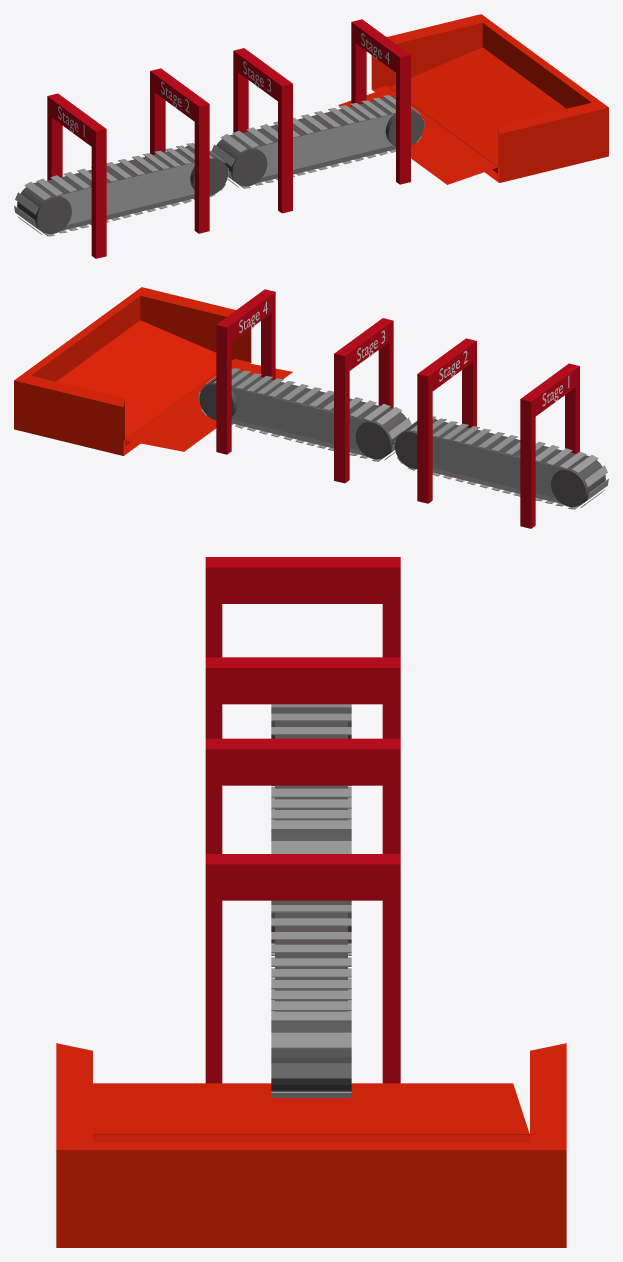
Rendered from project_revised.glb.
The picture shows the model from 3 angles, top to bottom: view 1: azimuth 30°, elevation 25°; view 2: azimuth 150°, elevation 25°; view 3: azimuth 270°, elevation 25°; orthographic projection. The views are drawn at different scales.
Parts seen in each view (by area): view 1: Cube.024, Cube.105, Cube.106, Cube.018, Cube.022, Cube.037, Cube.039, Circle, Circle.002, Cylinder, Cylinder.002, Cylinder.001 (+1 smaller); view 2: Cube.024, Cube.018, Cube.105, Cube.022, Cube.106, Cube.039, Cube.037, Circle, Circle.002, Cylinder, Cylinder.002, Cylinder.001 (+1 smaller); view 3: Cube.024, Cube.022, Cube.018, Cube.105, Cube.106, Cylinder.003, Circle.002, Circle, Cube.088, Cube.089, Cube.019.
Boxes of the visible parts, box(x1,y1,x2,y2) form: Cube.024: box(338, 14, 608, 184); Cube.105: box(47, 93, 106, 258); Cube.106: box(150, 68, 209, 233); Cube.018: box(233, 48, 292, 213); Cube.022: box(351, 19, 410, 184); Cube.037: box(60, 162, 194, 224); Cube.039: box(255, 114, 393, 176); Circle: box(17, 146, 194, 232); Circle.002: box(217, 98, 395, 183); Cylinder: box(20, 182, 71, 234); Cylinder.002: box(216, 134, 267, 186); Cylinder.001: box(186, 145, 227, 195); Cube.024: box(14, 287, 292, 455); Cube.018: box(334, 318, 393, 483); Cube.105: box(520, 363, 579, 528); Cube.022: box(216, 289, 275, 454); Cube.106: box(417, 338, 476, 503); Cube.039: box(231, 388, 367, 449); Cube.037: box(432, 437, 562, 497); Circle: box(416, 419, 605, 506); Circle.002: box(231, 371, 405, 456); Cylinder: box(551, 455, 602, 507); Cylinder.002: box(355, 407, 406, 459); Cylinder.001: box(395, 418, 436, 468); Cube.024: box(56, 1043, 566, 1247); Cube.022: box(205, 854, 400, 1083); Cube.018: box(205, 738, 400, 853); Cube.105: box(205, 557, 400, 657); Cube.106: box(205, 657, 400, 738); Cylinder.003: box(271, 1021, 351, 1091); Circle.002: box(275, 900, 347, 1011); Circle: box(275, 708, 347, 820); Cube.088: box(271, 1032, 351, 1047); Cube.089: box(271, 1063, 351, 1078); Cube.019: box(271, 841, 351, 853).
Size of what is drawn, in the model's own units: 30.02 by 7 by 12.74.
